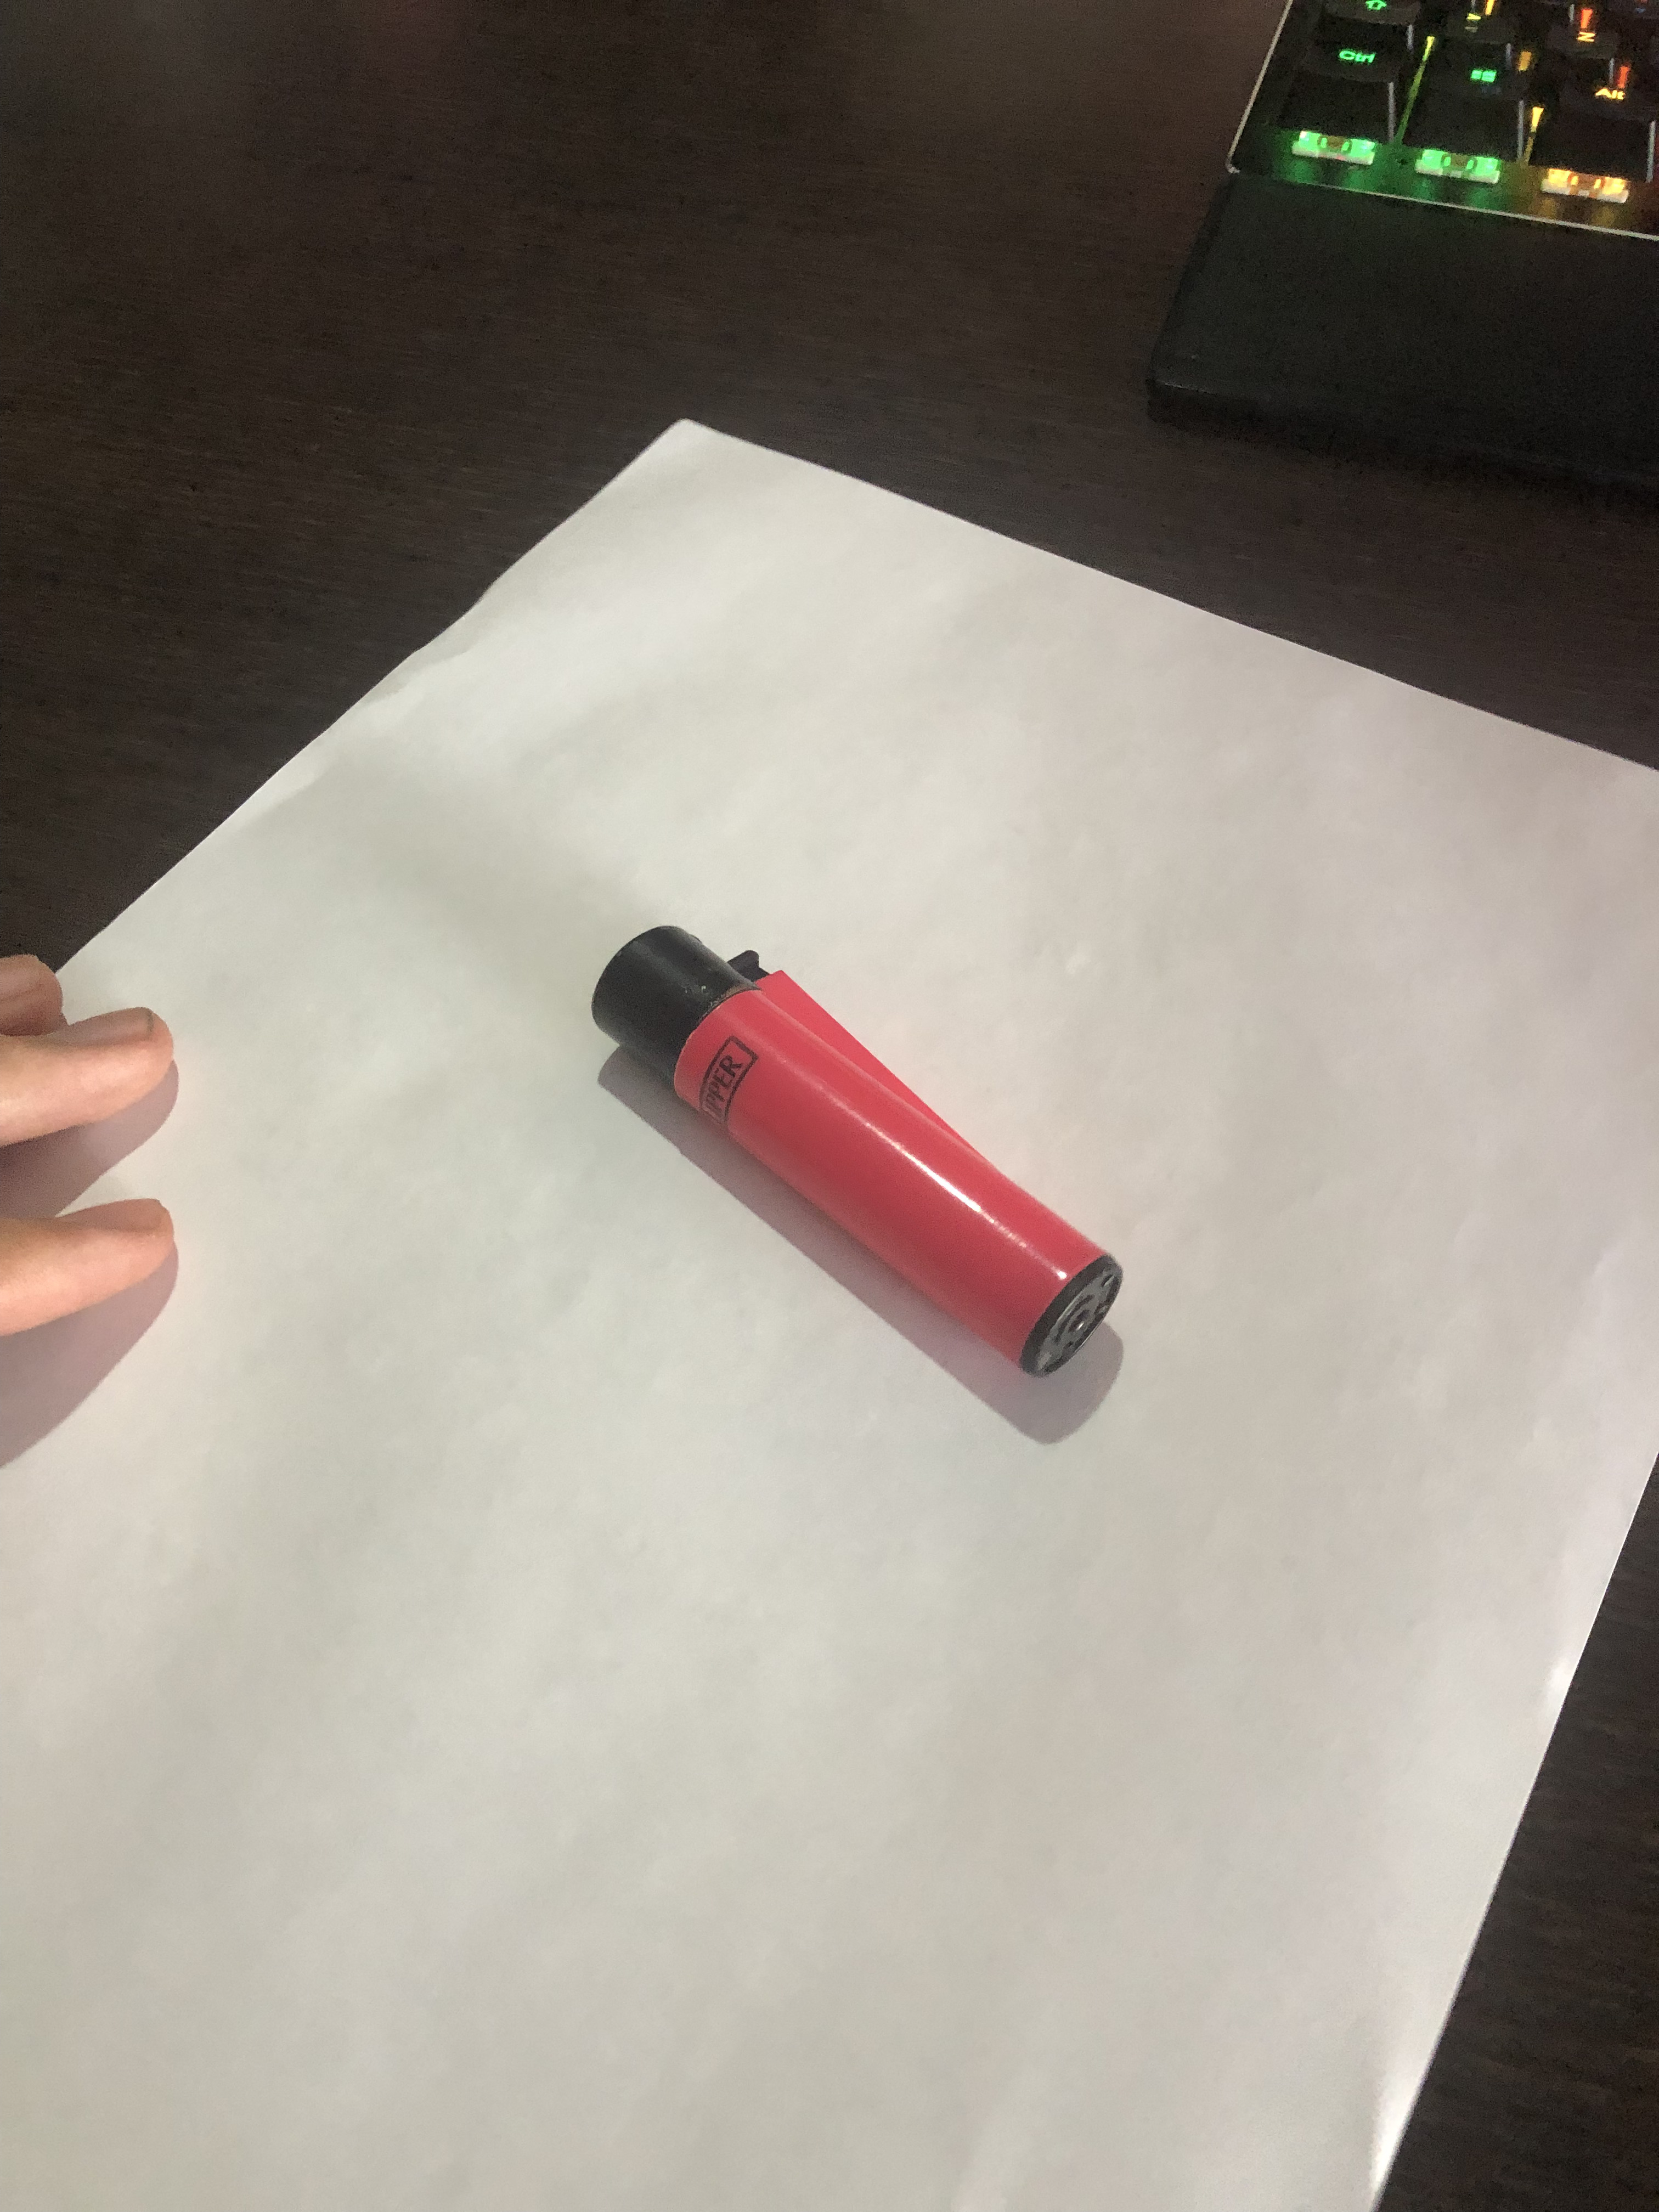Mechero: (521, 897, 1171, 1402)
